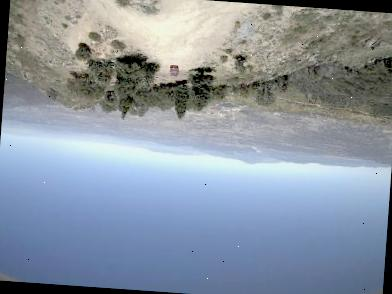smoke: (246, 143, 267, 159)
